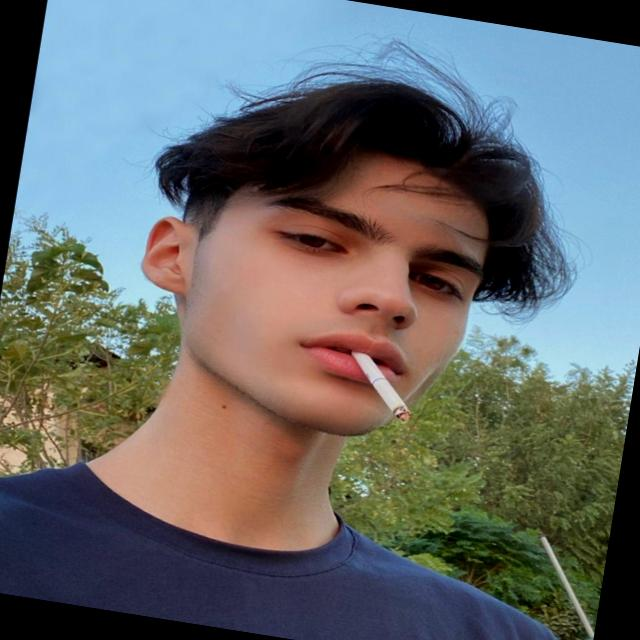cigarette: (309, 324, 442, 446)
